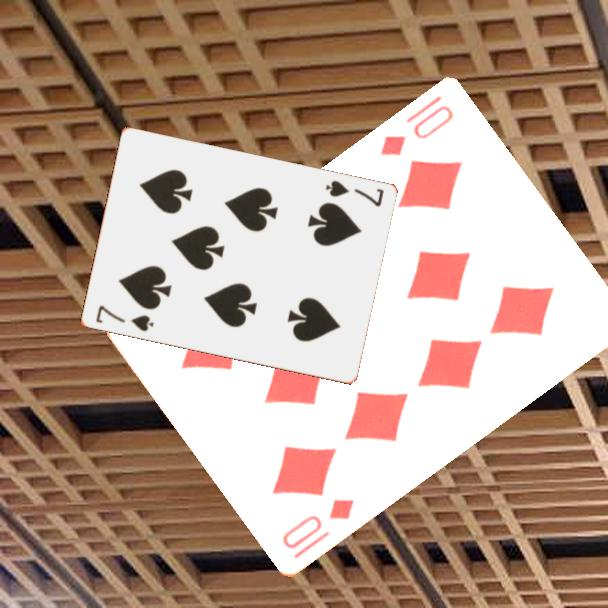d10: (376, 92, 457, 160), (278, 495, 357, 553)
s07: (92, 302, 156, 335), (322, 177, 386, 210)
